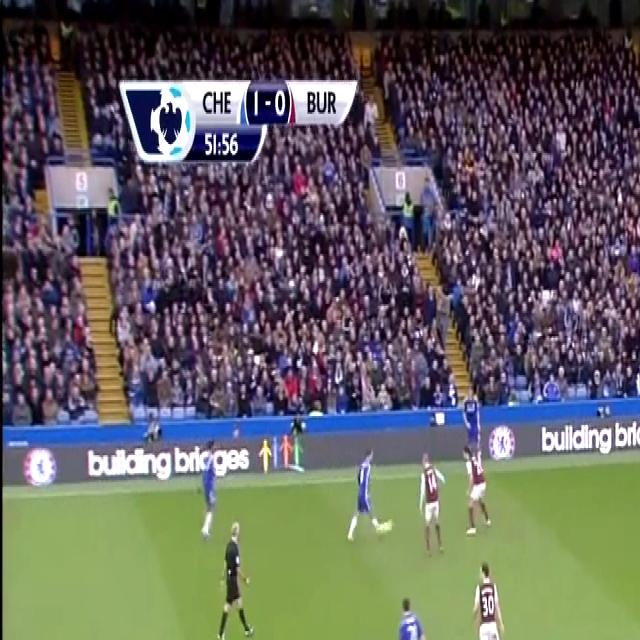ball: (377, 498, 399, 549)
referee: (215, 515, 261, 640)
soccer-player: (344, 435, 384, 549), (417, 446, 450, 564), (467, 556, 513, 640), (194, 436, 224, 548), (463, 437, 493, 541), (386, 585, 437, 640), (460, 388, 484, 479), (58, 634, 103, 640)
